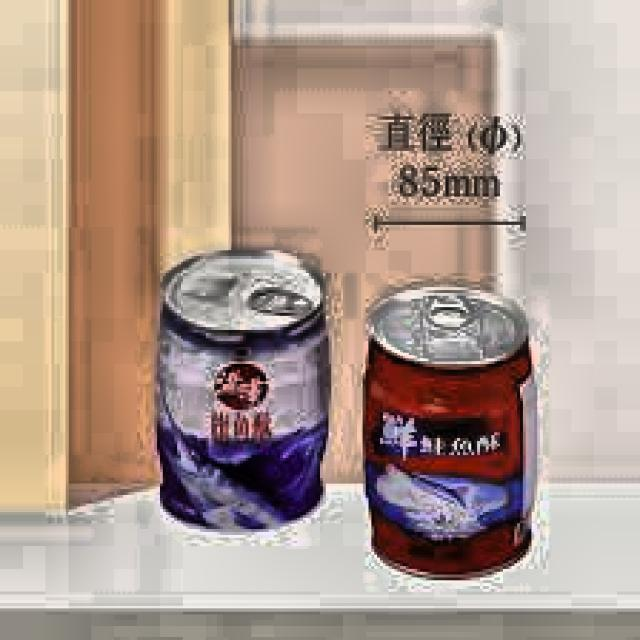can: (358, 280, 544, 586), (144, 239, 331, 540)
